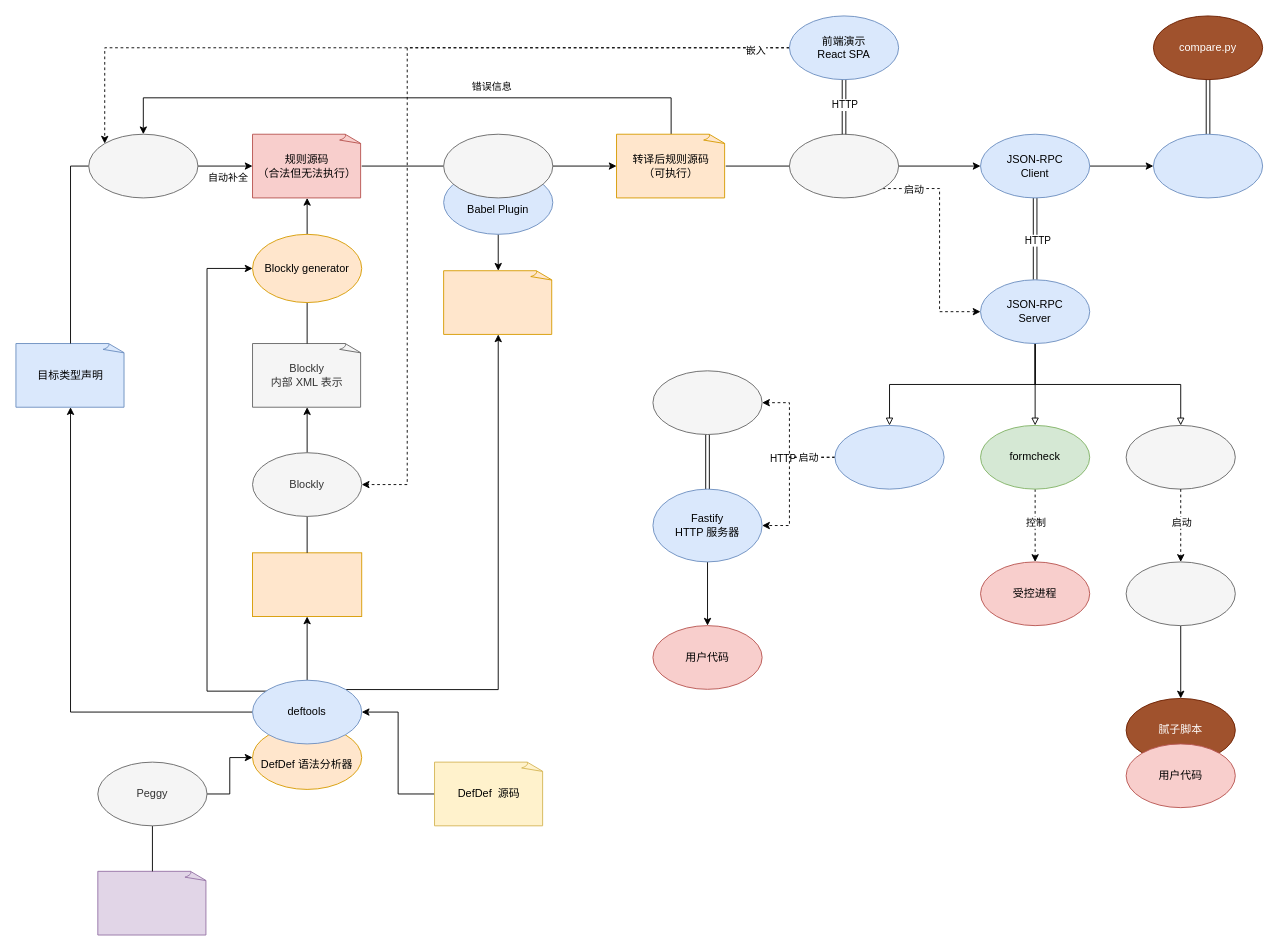
Image size: 1279x951. Some labels were removed from this diagram. The shapes that lost their labels are listed below. From the top down, each one's box as (x1, y1, x2, y2) in pixels, then its label:
(88, 133, 198, 198): Monaco Editor
(443, 133, 553, 198): Babel
(789, 133, 899, 198): 后端 Fastify Node.js
(1153, 133, 1263, 198): rtlib
(443, 270, 553, 334): 目标定义
(652, 370, 762, 435): Puppeteer
(834, 425, 944, 489): webcheck
(1125, 425, 1235, 489): graphicscheck
(252, 552, 362, 617): Blockly 自定义块
(1125, 561, 1235, 626): Python.exe
(97, 870, 207, 935): DefDef Peggy Grammar
